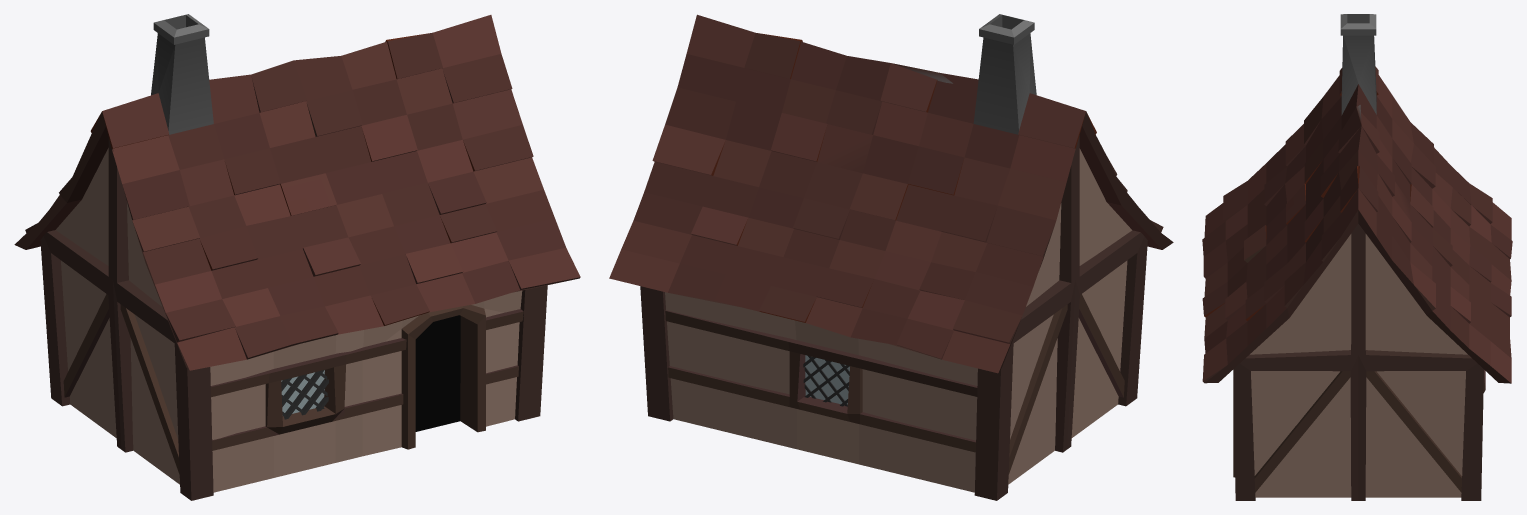
The model's file is House.fbx.
3 views of the same model, side by side, from view 1: azimuth 30°, elevation 25°; view 2: azimuth 150°, elevation 25°; view 3: azimuth 270°, elevation 25° (orthographic). The views are drawn at different scales.
Visible parts, largest first — view 1: Building; view 2: Building; view 3: Building.
Boxes of the visible parts, x1=… form: Building: x1=14, y1=14, x2=580, y2=500; Building: x1=609, y1=14, x2=1173, y2=500; Building: x1=1202, y1=14, x2=1512, y2=500.
Size of the model in its own units: 5.39 by 5.47 by 4.27.
